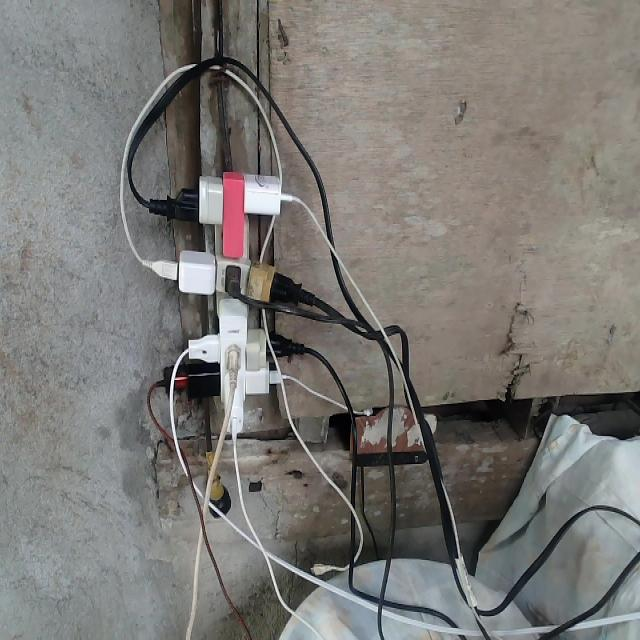-: (151, 164, 306, 435)
